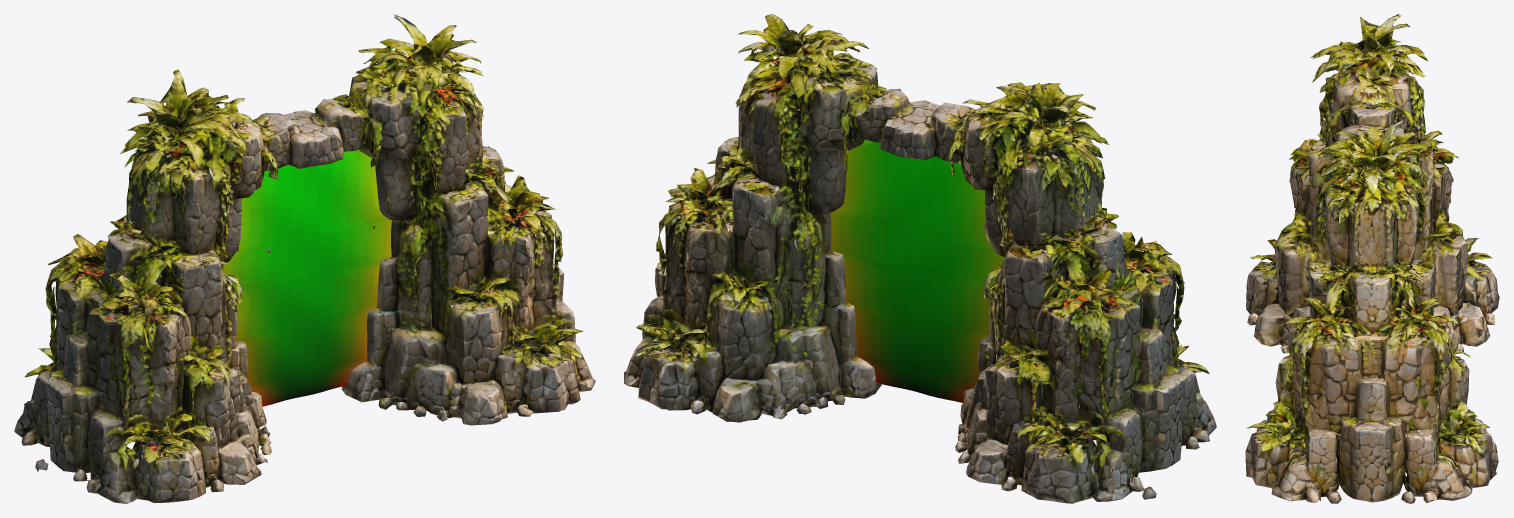
File: SummerWaterfallDoor.fbx
3 views of the same model, side by side, from view 1: azimuth 30°, elevation 25°; view 2: azimuth 150°, elevation 25°; view 3: azimuth 270°, elevation 25° (orthographic). The views are drawn at different scales.
Visible parts, largest first — view 1: SummerGate_Frame, WaterCurtain; view 2: SummerGate_Frame, WaterCurtain; view 3: SummerGate_Frame.
Boxes of the visible parts, box(x1,y1,x2,y2) form: SummerGate_Frame: box(14, 14, 595, 503); WaterCurtain: box(212, 149, 393, 406); SummerGate_Frame: box(624, 14, 1216, 503); WaterCurtain: box(828, 139, 1003, 402); SummerGate_Frame: box(1245, 14, 1499, 503).
Bounding box in the file's own units: 100 × 70.49 × 47.97.
Materials: 1 (1 with a texture image).
